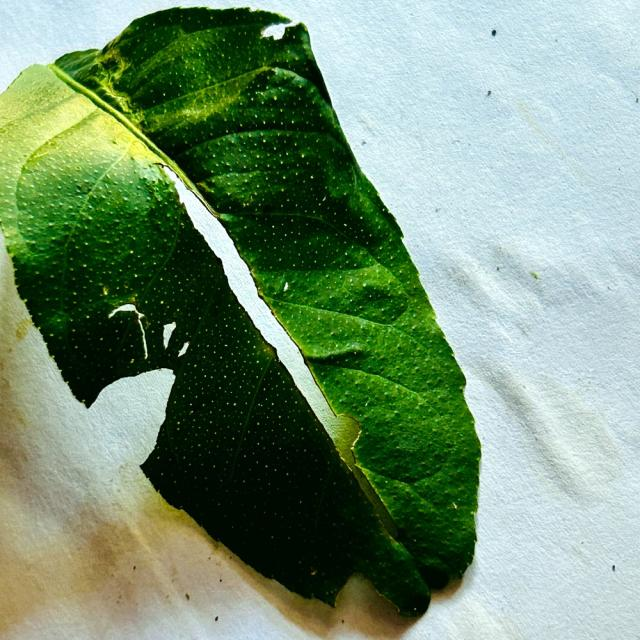Deficiency Leaf: (158, 173, 394, 540), (81, 370, 175, 468), (325, 572, 396, 622), (259, 19, 293, 46)
Lemon: (0, 8, 479, 616)
